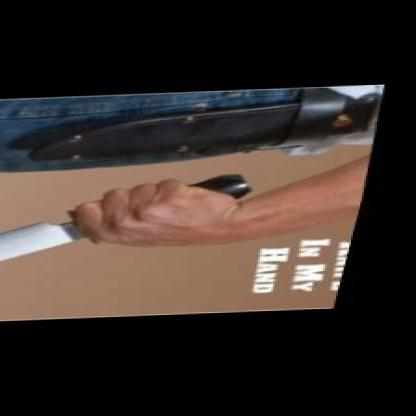knife: (0, 173, 206, 312)
